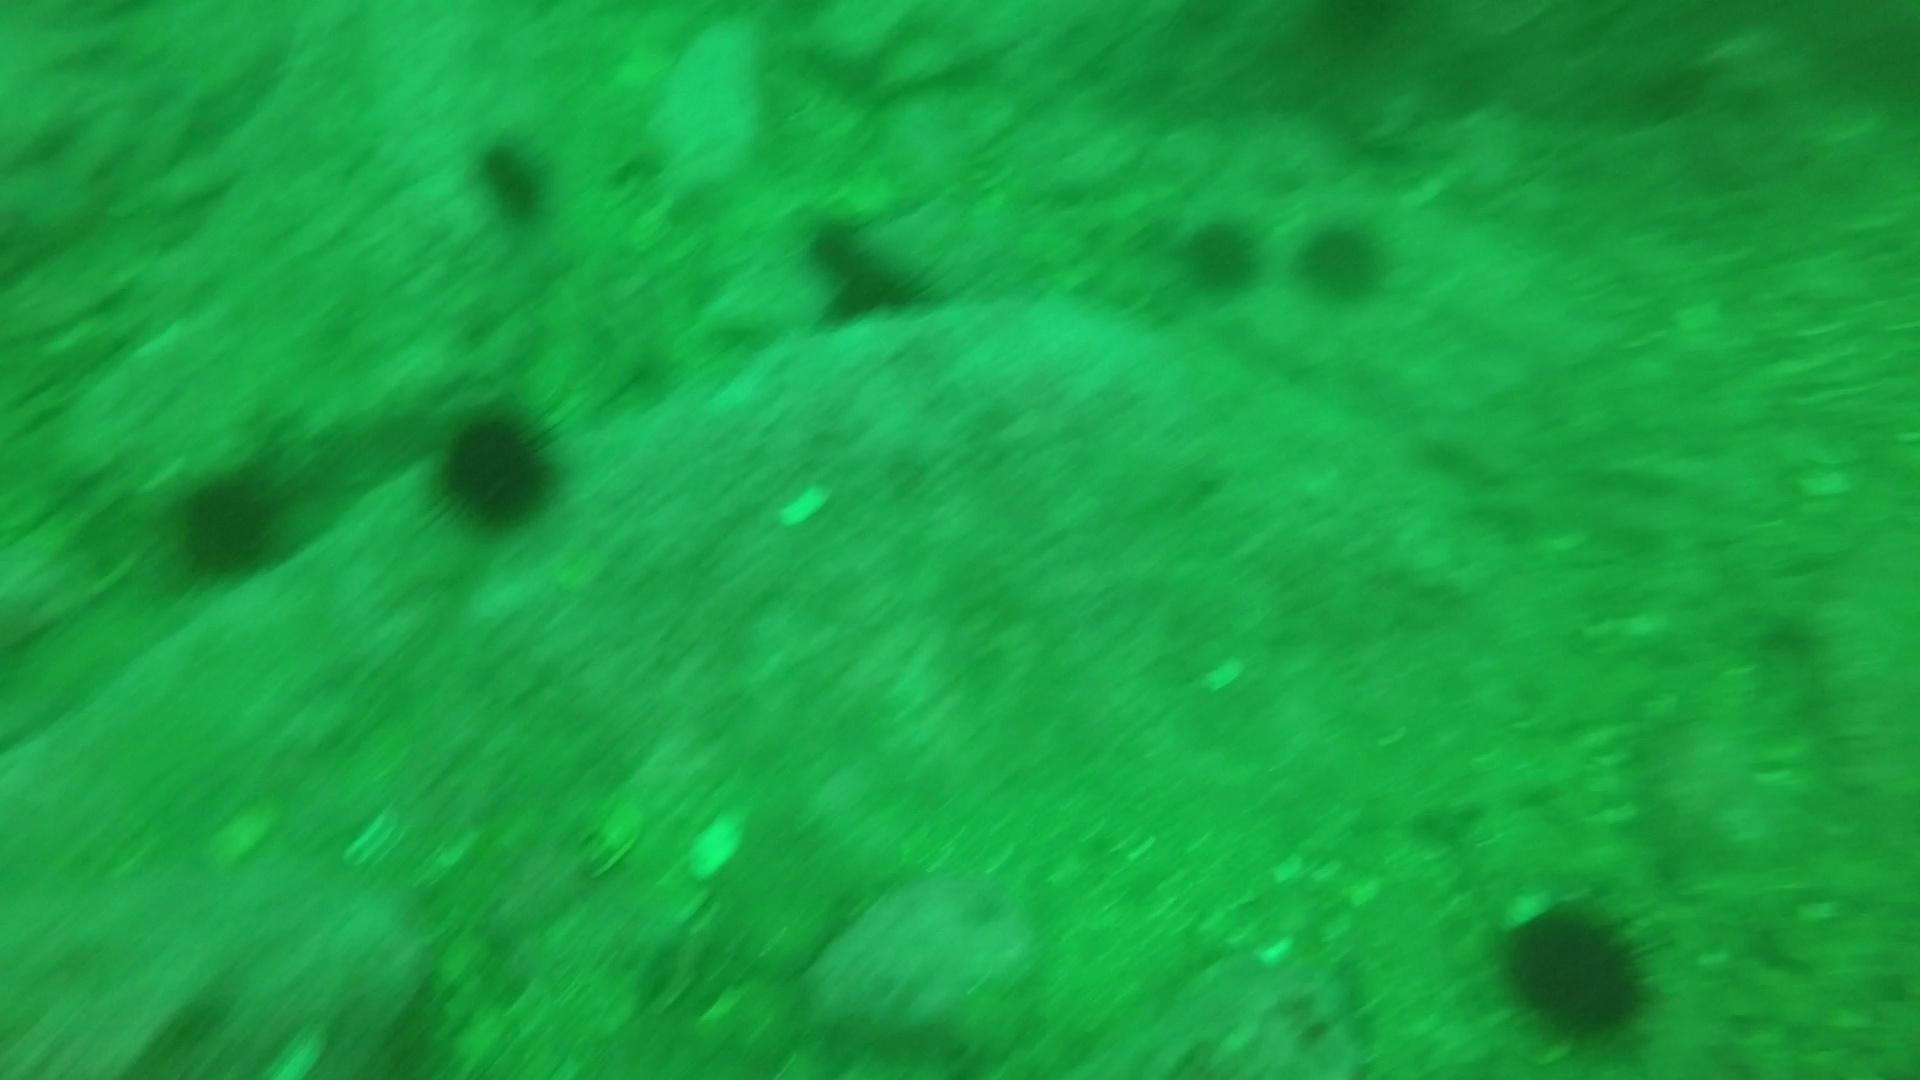echinus: (1489, 887, 1665, 1050), (425, 398, 568, 535), (164, 462, 294, 585), (1291, 212, 1394, 309), (465, 129, 559, 227), (1174, 210, 1266, 301), (822, 272, 938, 328), (808, 223, 924, 280)
